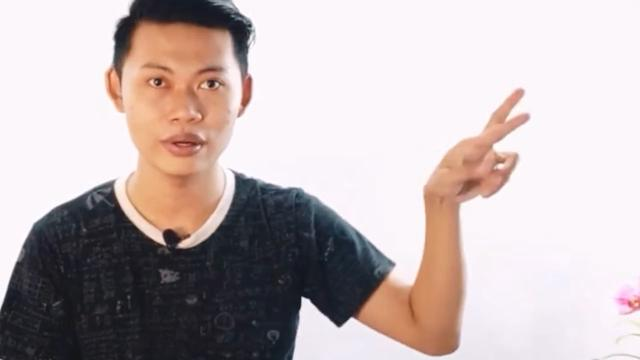R: (416, 84, 538, 208)
